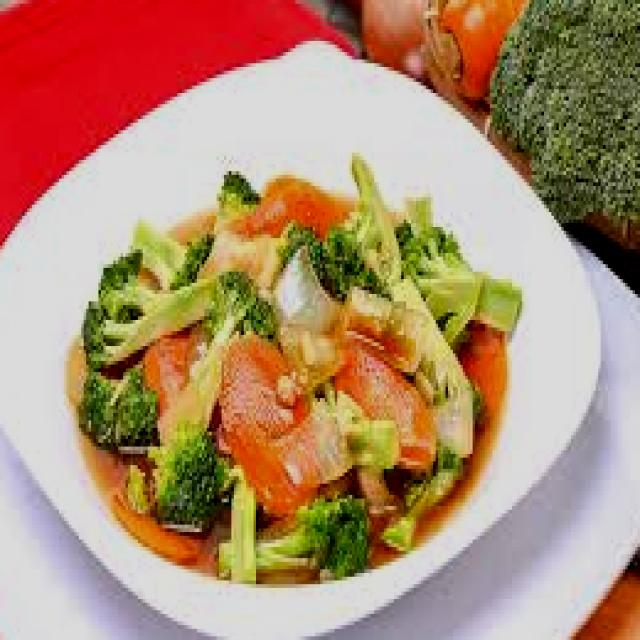wortel: (230, 332, 308, 512), (336, 336, 426, 468)
